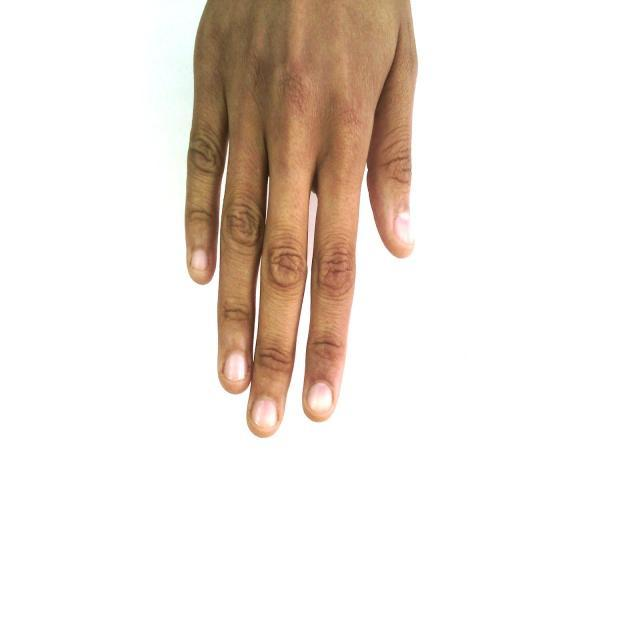Fingernail: (308, 382, 332, 414), (254, 399, 276, 429), (224, 352, 245, 380), (396, 212, 413, 243), (192, 250, 207, 273)
